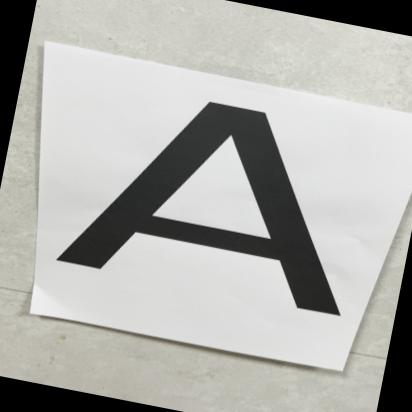seat: (29, 60, 386, 336)
